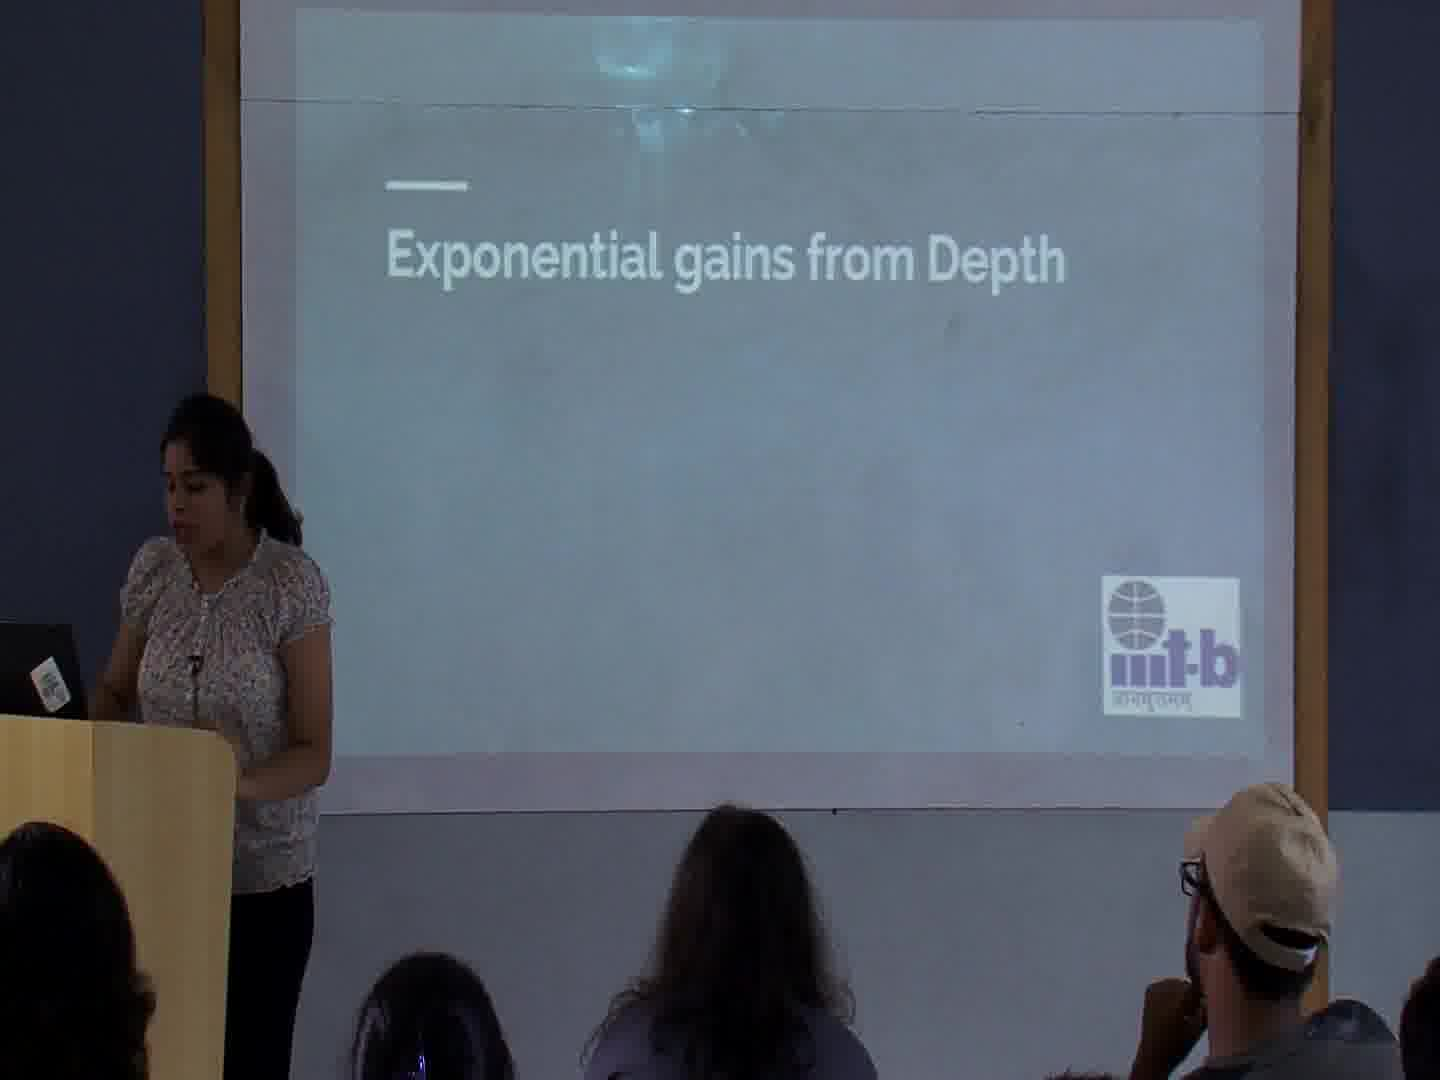slide: (296, 16, 1262, 758)
